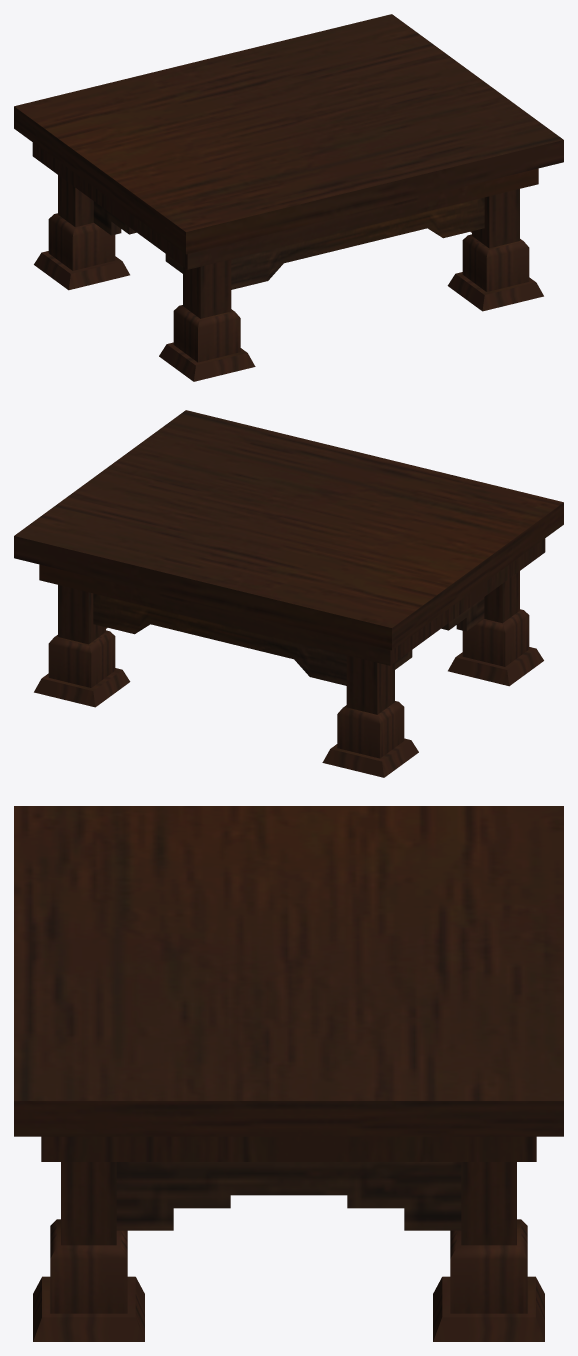
The model's file is daliang_field_a_s05g.fbx.
3 views of the same model, one above another, from view 1: azimuth 30°, elevation 25°; view 2: azimuth 150°, elevation 25°; view 3: azimuth 270°, elevation 25° (orthographic). The views are drawn at different scales.
Visible parts, largest first — view 1: daliang_field_a_s05g; view 2: daliang_field_a_s05g; view 3: daliang_field_a_s05g.
Part boxes in pixels (x1,y1,x2,y2): daliang_field_a_s05g: [14, 14, 563, 381]; daliang_field_a_s05g: [14, 410, 563, 777]; daliang_field_a_s05g: [14, 806, 563, 1341].
Bounding box in the file's own units: 116 × 46.25 × 91.58.
